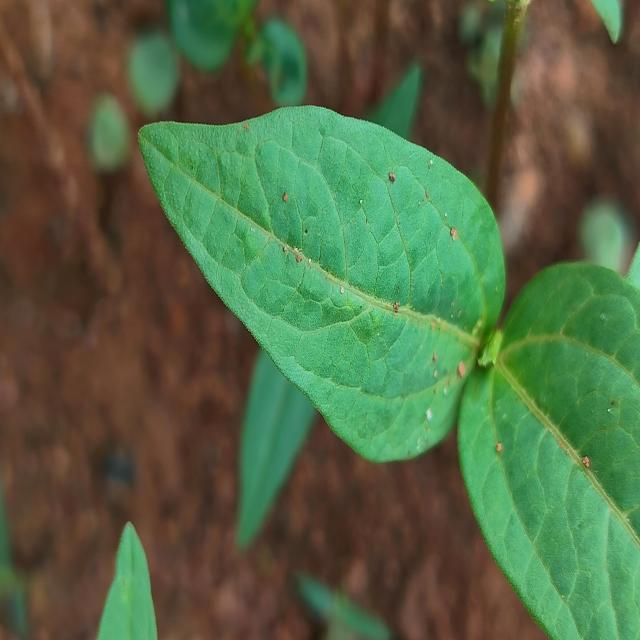Black gram_healthy: (140, 108, 505, 461), (457, 262, 640, 639)
